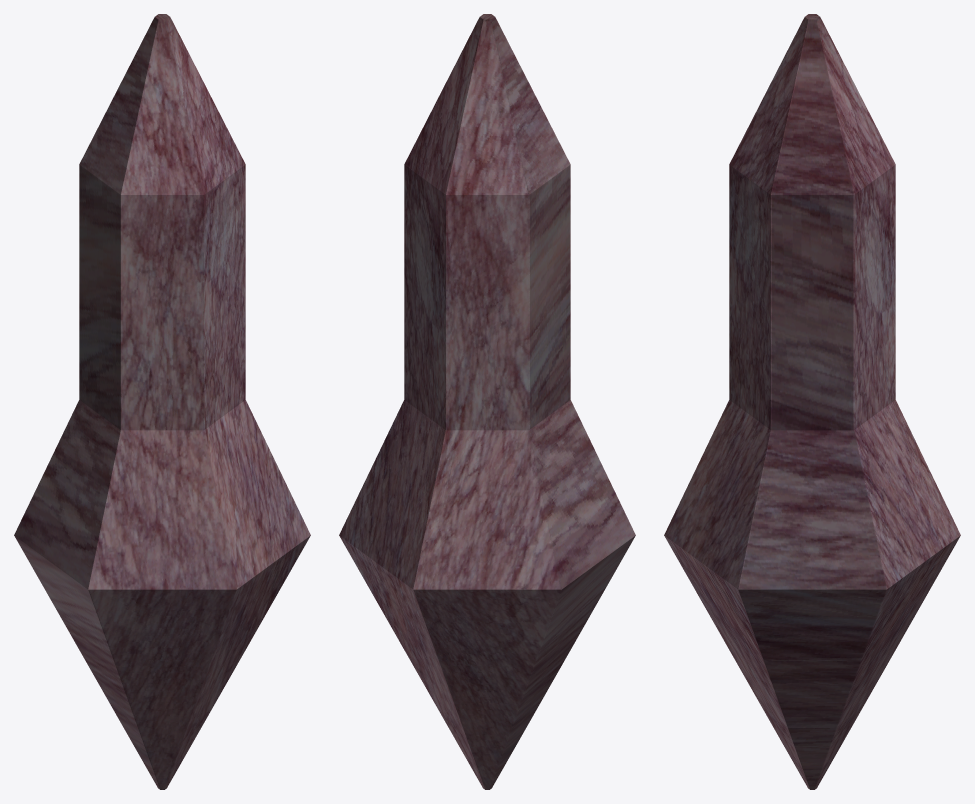
The model's file is Crystal.fbx.
3 views of the same model, side by side, from view 1: azimuth 30°, elevation 25°; view 2: azimuth 150°, elevation 25°; view 3: azimuth 270°, elevation 25° (orthographic).
Parts seen in each view (by area): view 1: root; view 2: root; view 3: root.
Part boxes in pixels (x1,y1,x2,y2): root: (14,14,310,789); root: (339,14,635,789); root: (664,14,960,789).
Bounding box in the file's own units: 0.1547 × 0.512 × 0.1786.
1 material, 1 textured.
